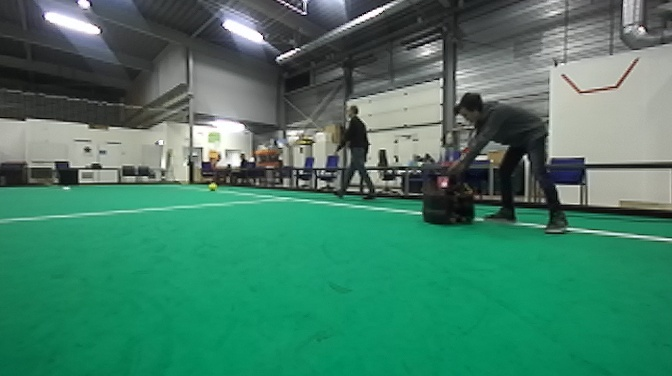ball: (207, 180, 217, 193)
human: (456, 88, 550, 241), (336, 101, 378, 207)
robot: (419, 141, 479, 227)
